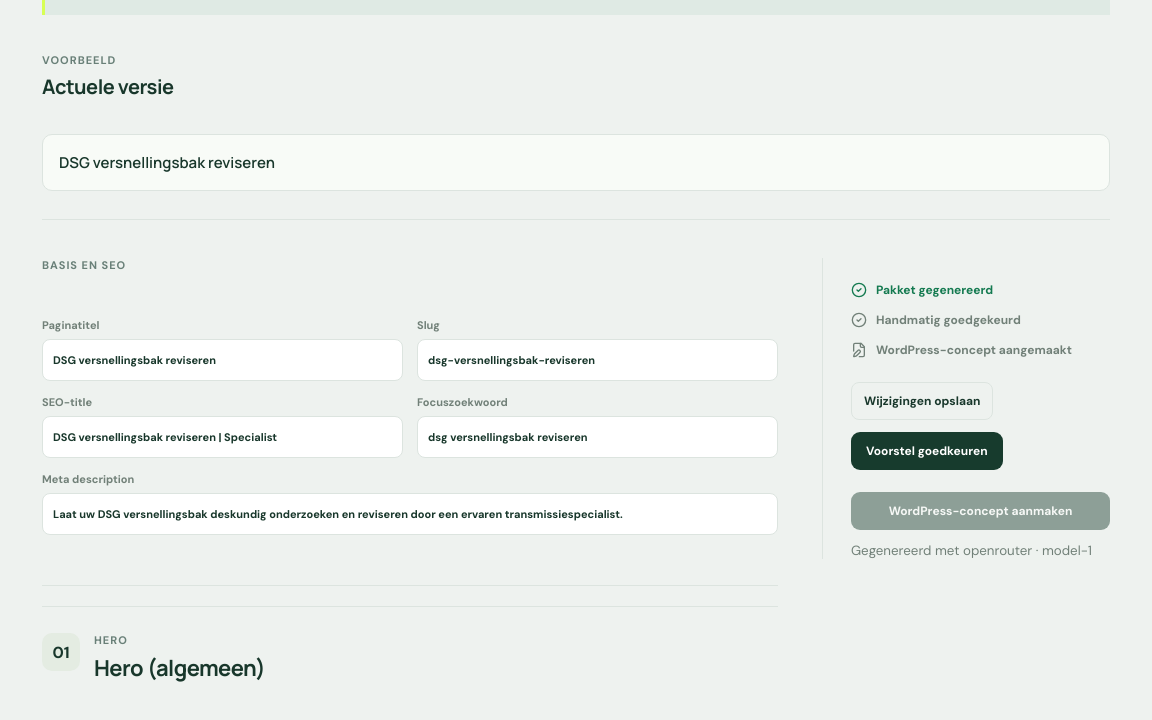
Test: PagePackageReview › saves, approves, and queues a WordPress draft without opening a window
(page scrolled)
Step 1. Replace the text in the field labelled "Paginatitel" with "Aangepaste DSG pagina" → x=222, y=360, box [42, 339, 403, 381]
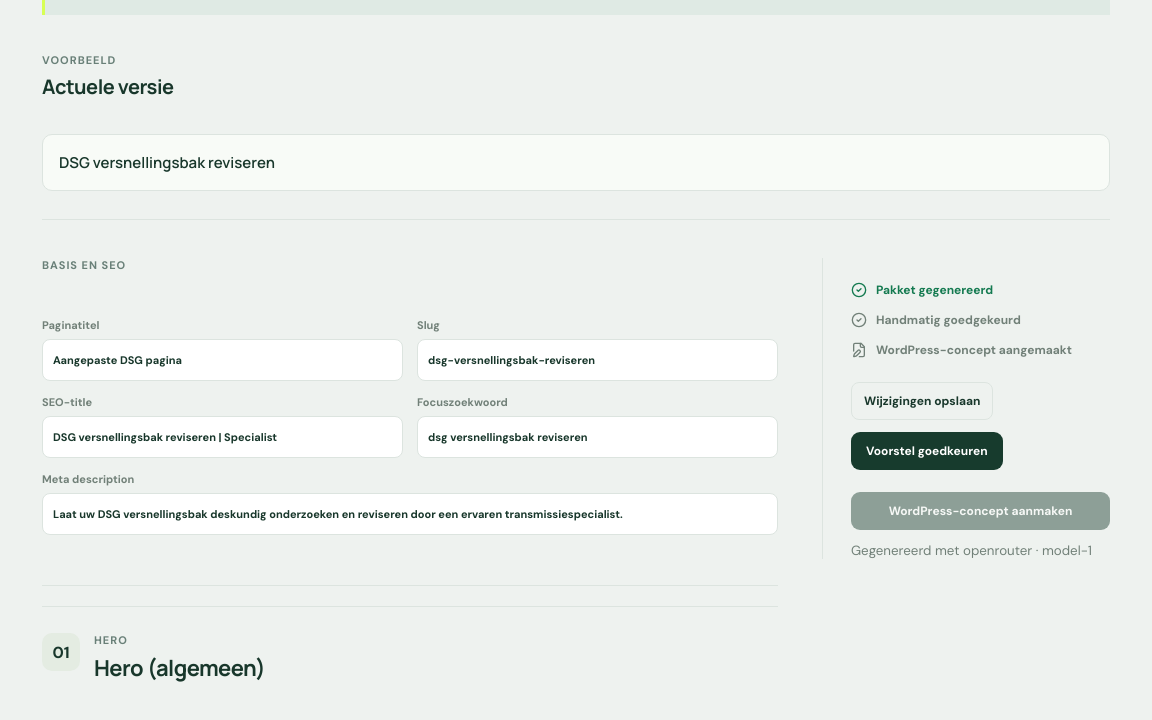
Check: the button "WordPress-concept aanmaken" is disabled, box [851, 492, 1110, 530]
Step 2. Click the button "Wijzigingen opslaan" → x=922, y=401, box [851, 382, 993, 420]
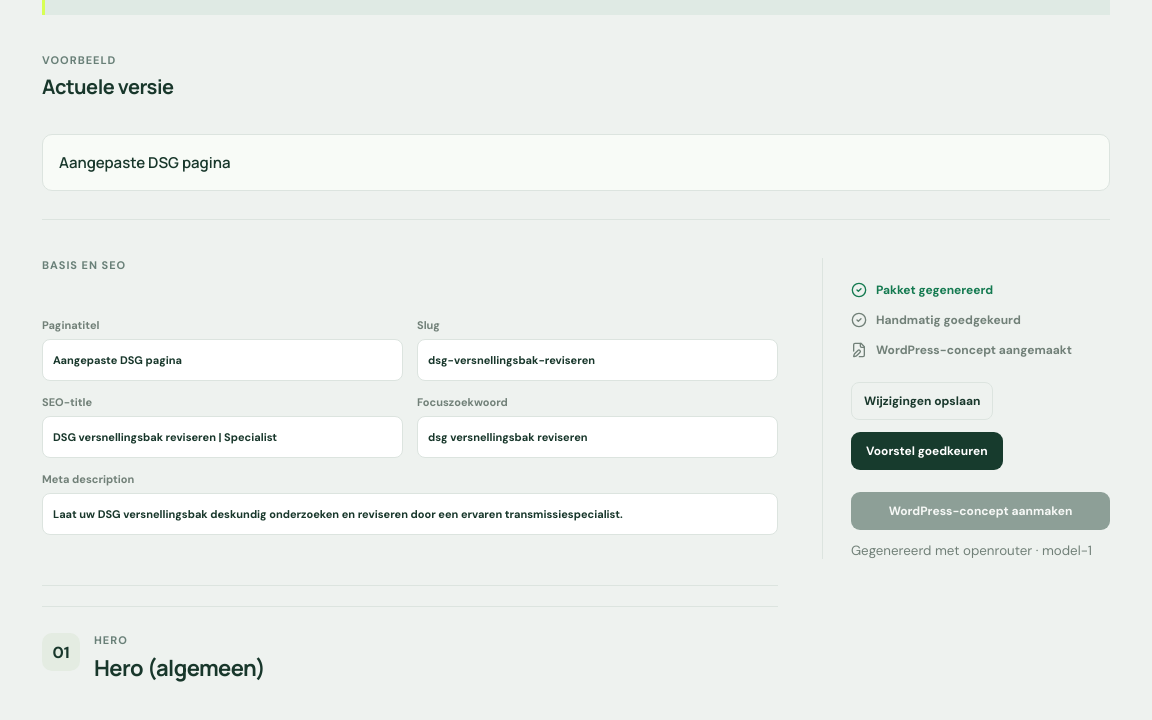
Step 3. Click the button "Voorstel goedkeuren" → x=927, y=451, box [851, 432, 1003, 470]
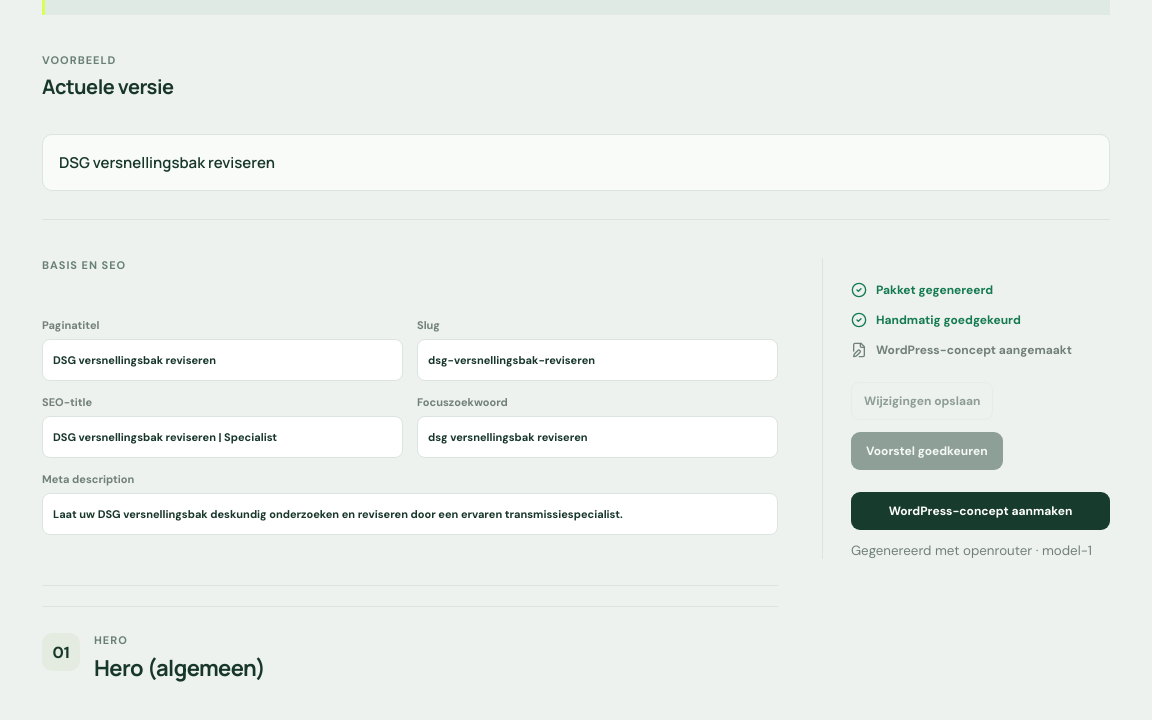
Check: the button "WordPress-concept aanmaken" is enabled
Step 4. Click the button "WordPress-concept aanmaken" → x=980, y=511, box [851, 492, 1110, 530]
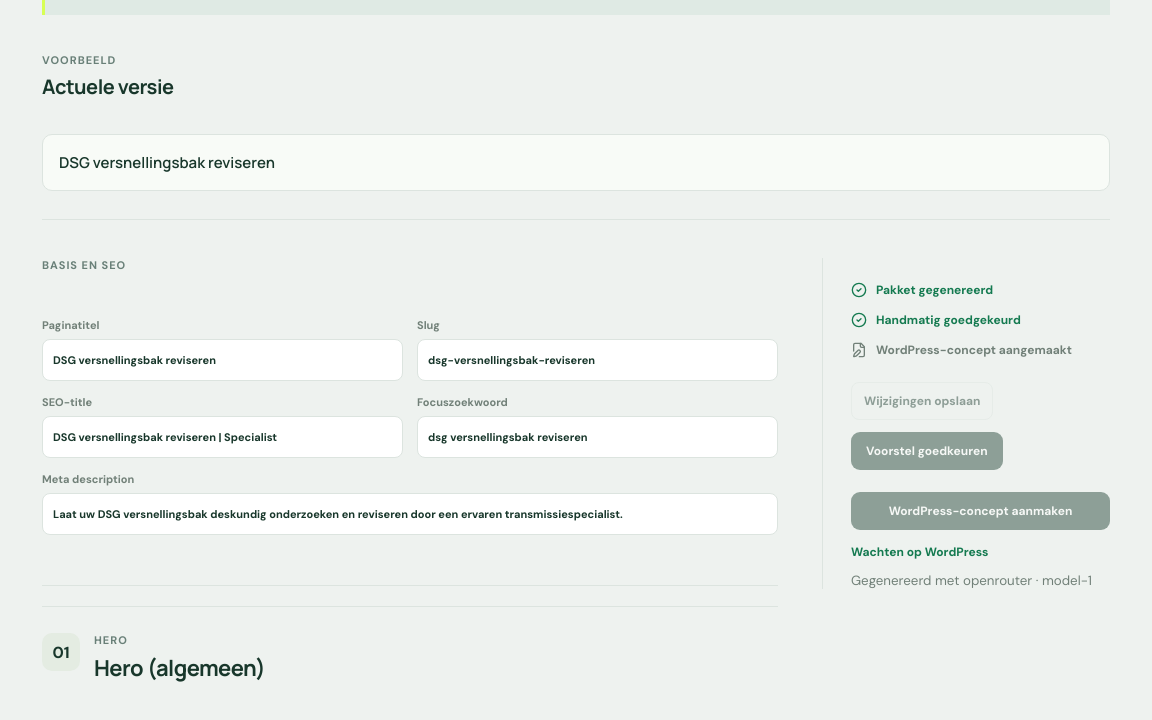
Check: the text "Wachten op WordPress" is shown, box [851, 544, 988, 560]
